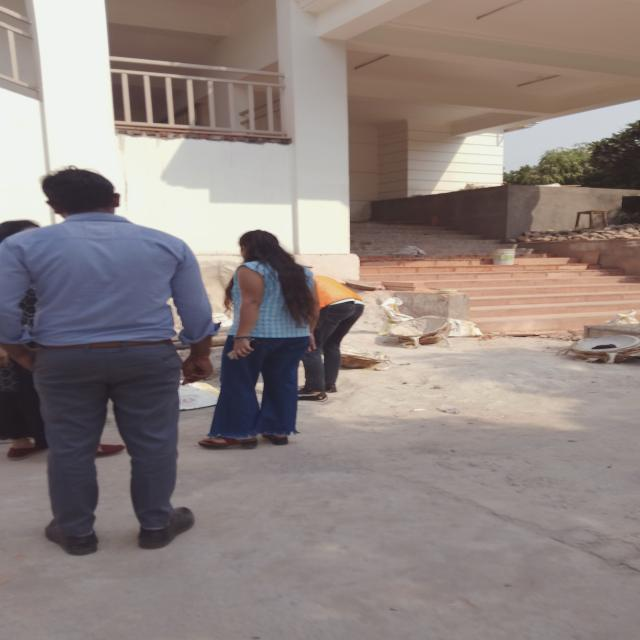unsafe: (4, 163, 200, 551), (212, 232, 298, 448)
